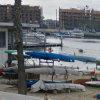Boat: (23, 49, 97, 82)
